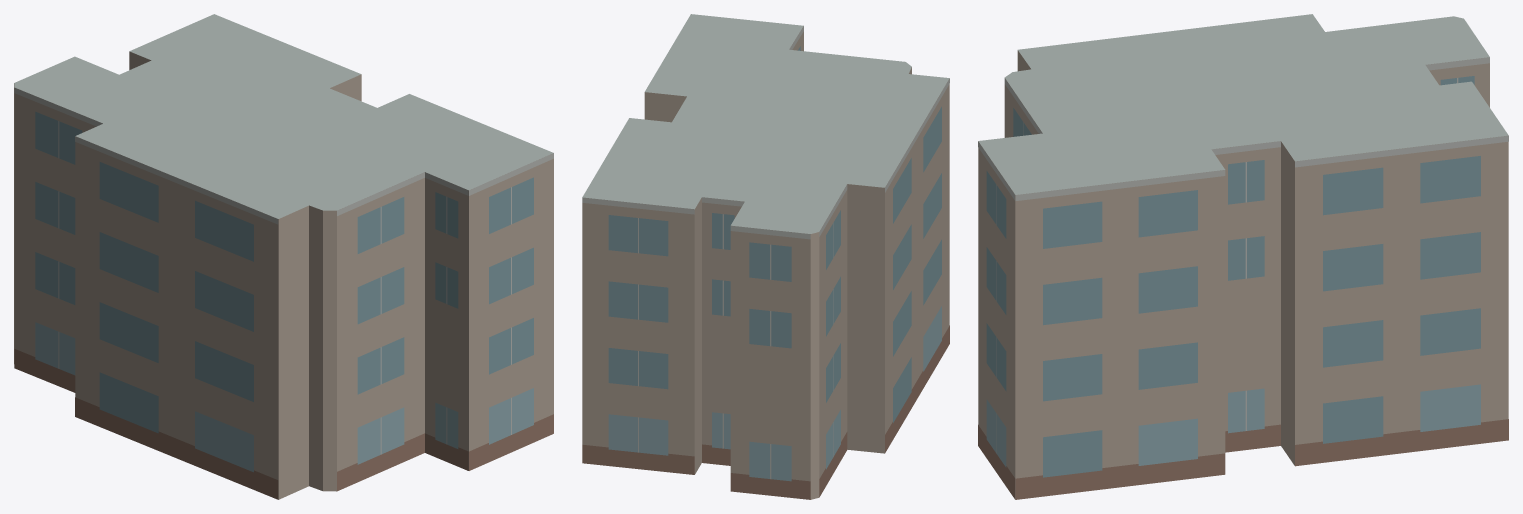
Rendered from survey-upis-32902261.glb.
The picture shows the model from 3 angles, left to right: view 1: azimuth 30°, elevation 25°; view 2: azimuth 150°, elevation 25°; view 3: azimuth 270°, elevation 25°; orthographic projection. The views are drawn at different scales.
Visible parts, largest first — view 1: survey-upis-32902261.tmp; view 2: survey-upis-32902261.tmp; view 3: survey-upis-32902261.tmp.
Part boxes in pixels (x1,y1,x2,y2): survey-upis-32902261.tmp: [14, 14, 553, 499]; survey-upis-32902261.tmp: [582, 14, 949, 499]; survey-upis-32902261.tmp: [978, 14, 1508, 499].
Size of the model in its own units: 15.42 by 12.1 by 19.1.
